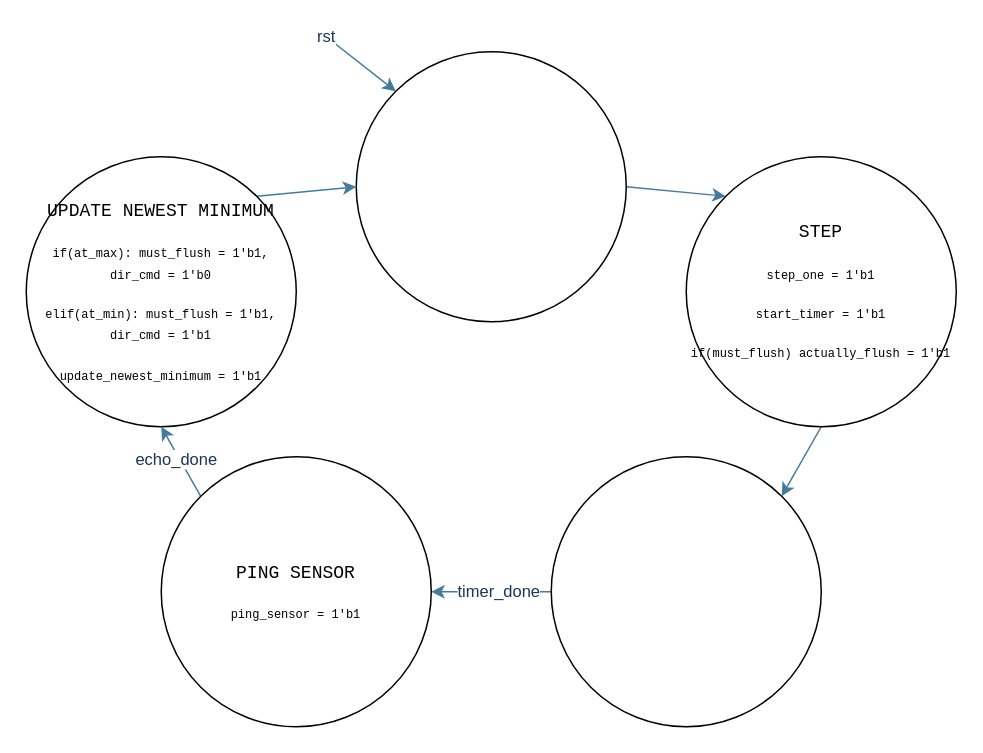
This 983x753 diagram has some shape labels left out. Each missing label, with the box of its shape:
COOLDOWN: (550, 455, 821, 727)
IDLE: (355, 50, 626, 322)
